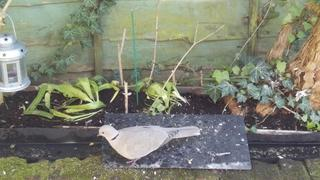collared dove: (97, 125, 201, 166)
